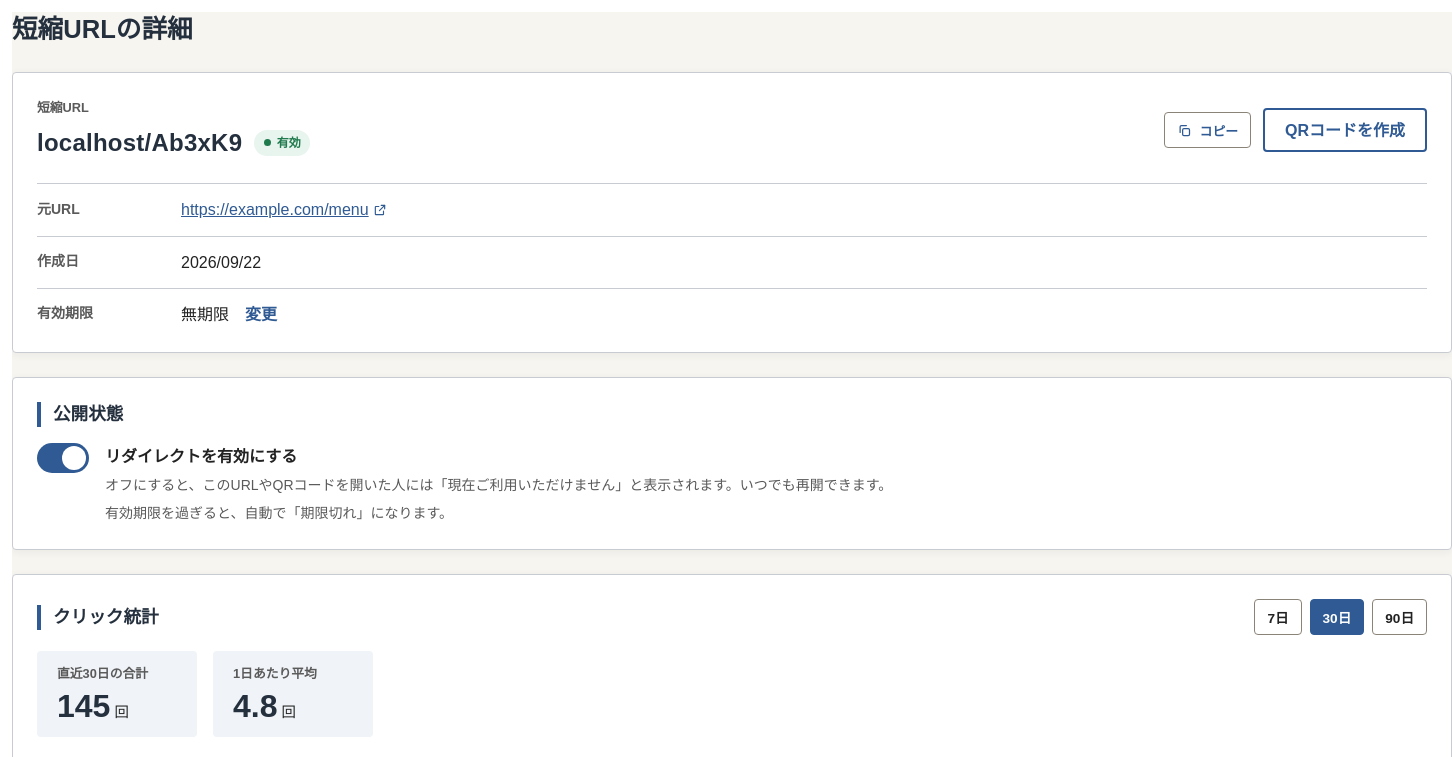
Test case: LinkDetailPage › クリック統計は初期30日で、7日に切り替えるとdays=7で取得し直す
The width and height of the screenshot is (1452, 757).
expect the text "直近30日の合計" is shown: met, box [57,666,148,681]
Click the button "7日" at (1278, 617), box [1254,599,1302,635]
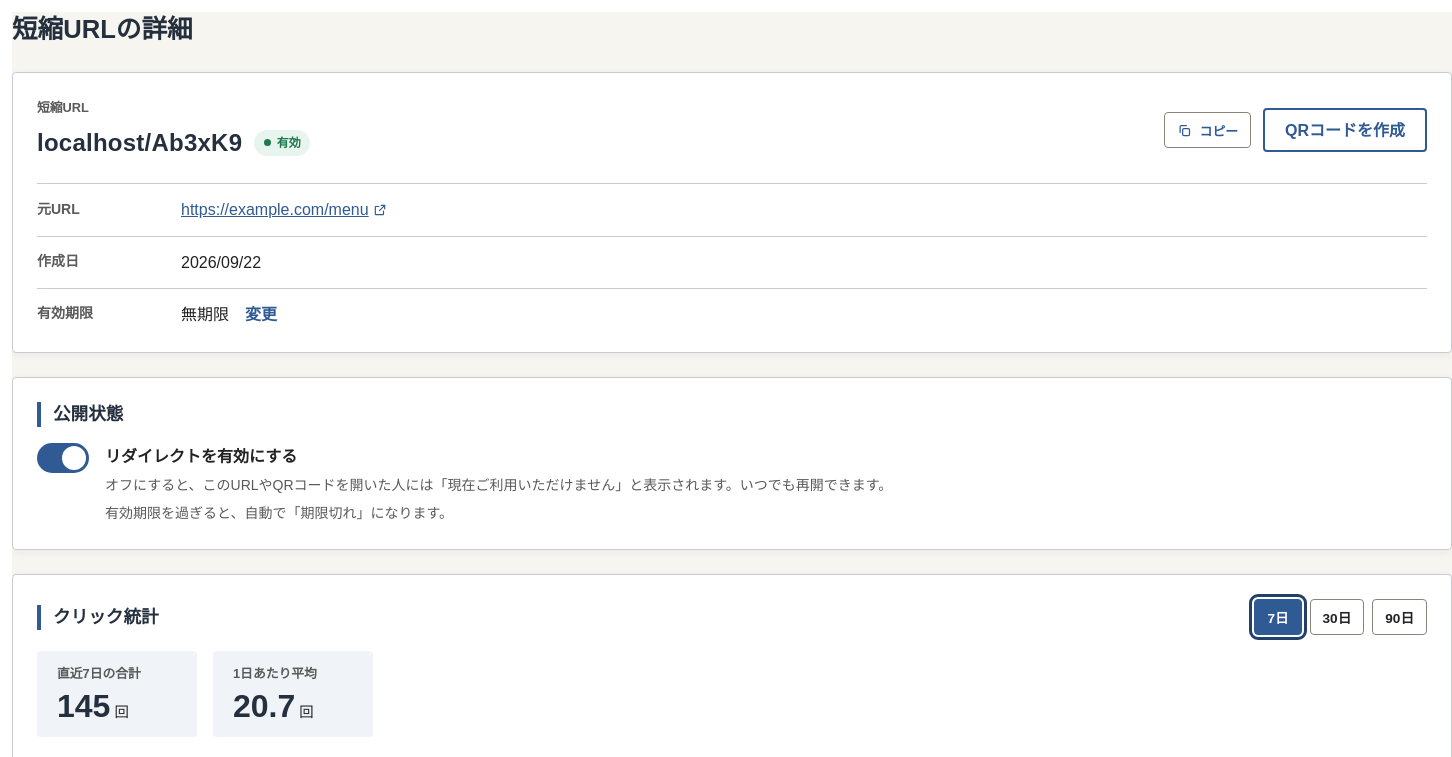
expect the text "145" is shown: met, box [57,689,110,724]
expect the text "直近7日の合計" is shown: met, box [57,666,141,681]
expect the text "20.7" is shown: met, box [233,689,295,724]
